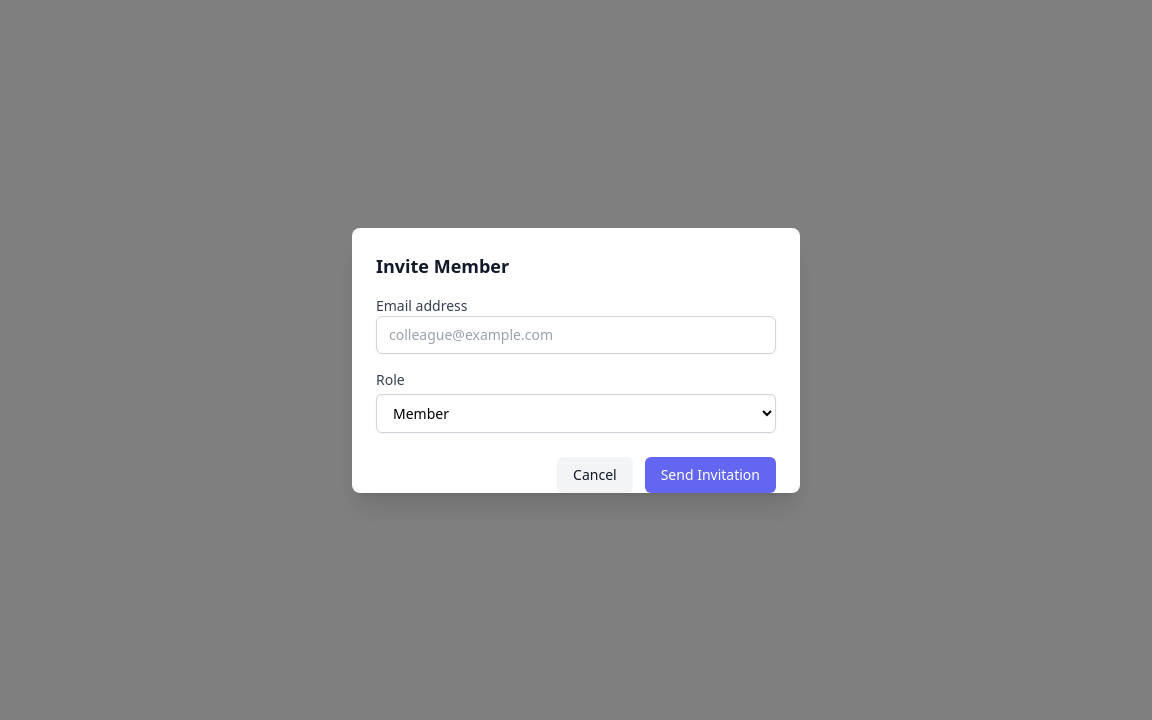
InviteMemberDialog › should show invite link after successful creation instead of closing
This screenshot has width=1152, height=720.
Type "test@example.com" into the field labelled "Email address".
click(576, 334); type("test@example.com")  # box [376,316,776,354]
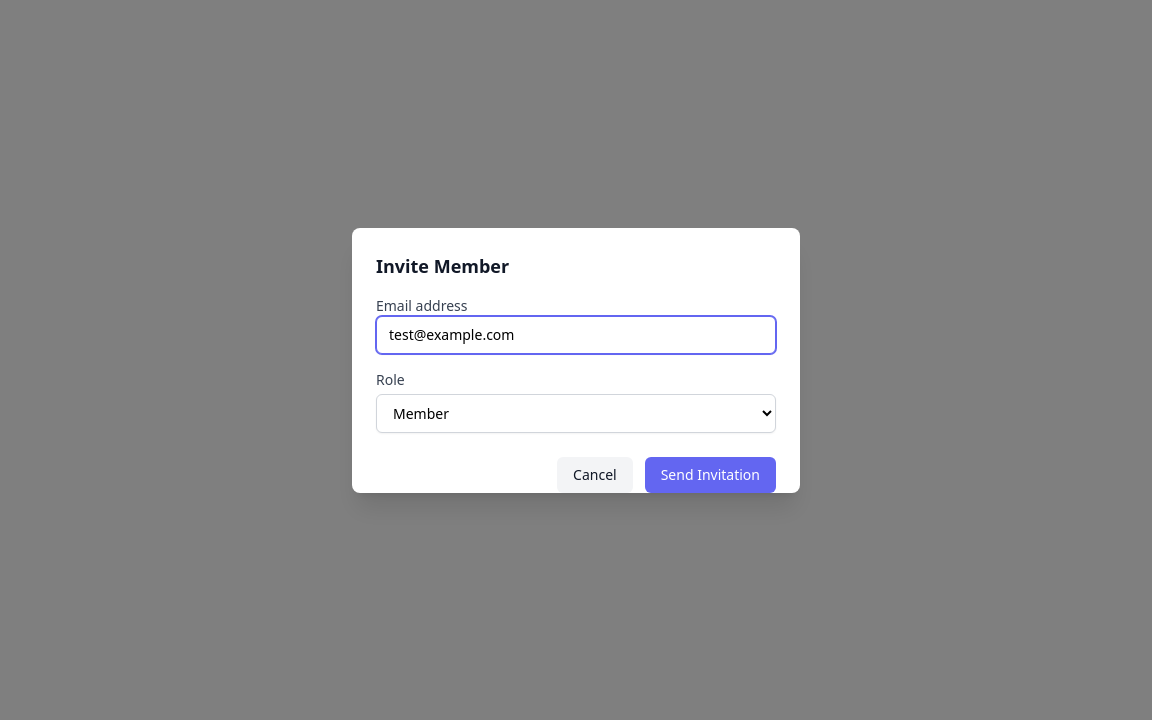
Click the button "Send Invitation".
click(710, 474)  # box [645,456,776,492]
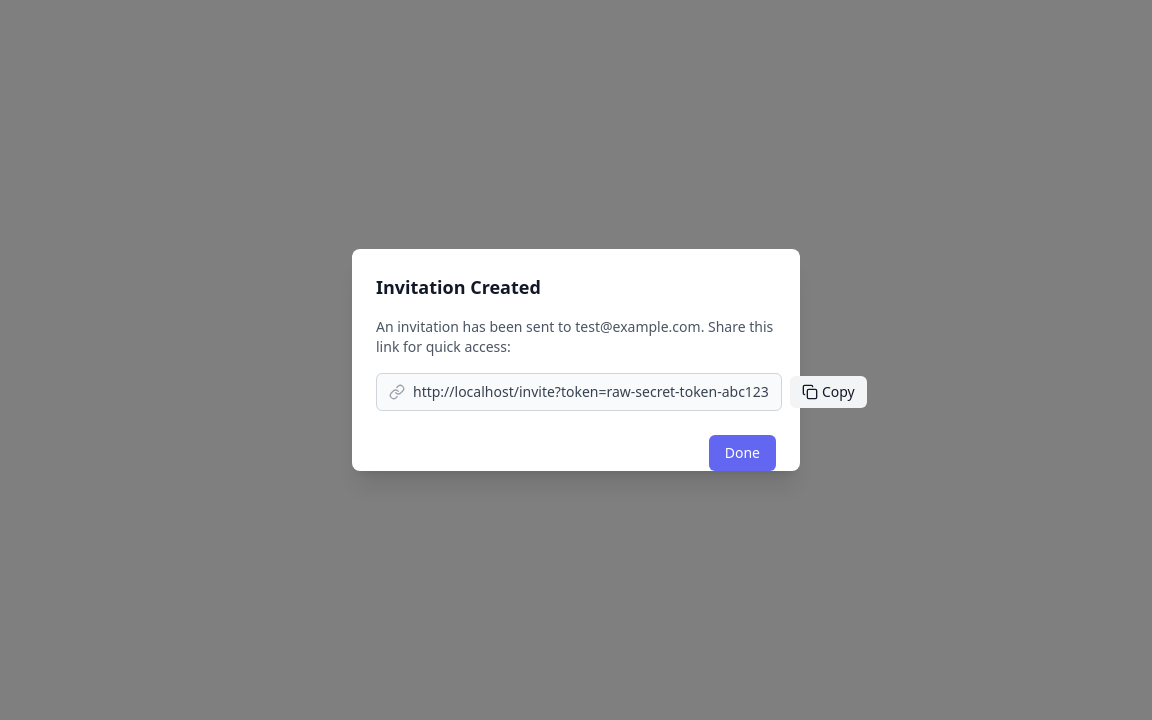
Expected: the text "http://localhost/invite?token=raw-secret-token-abc123" is shown, [413,382,769,402]
